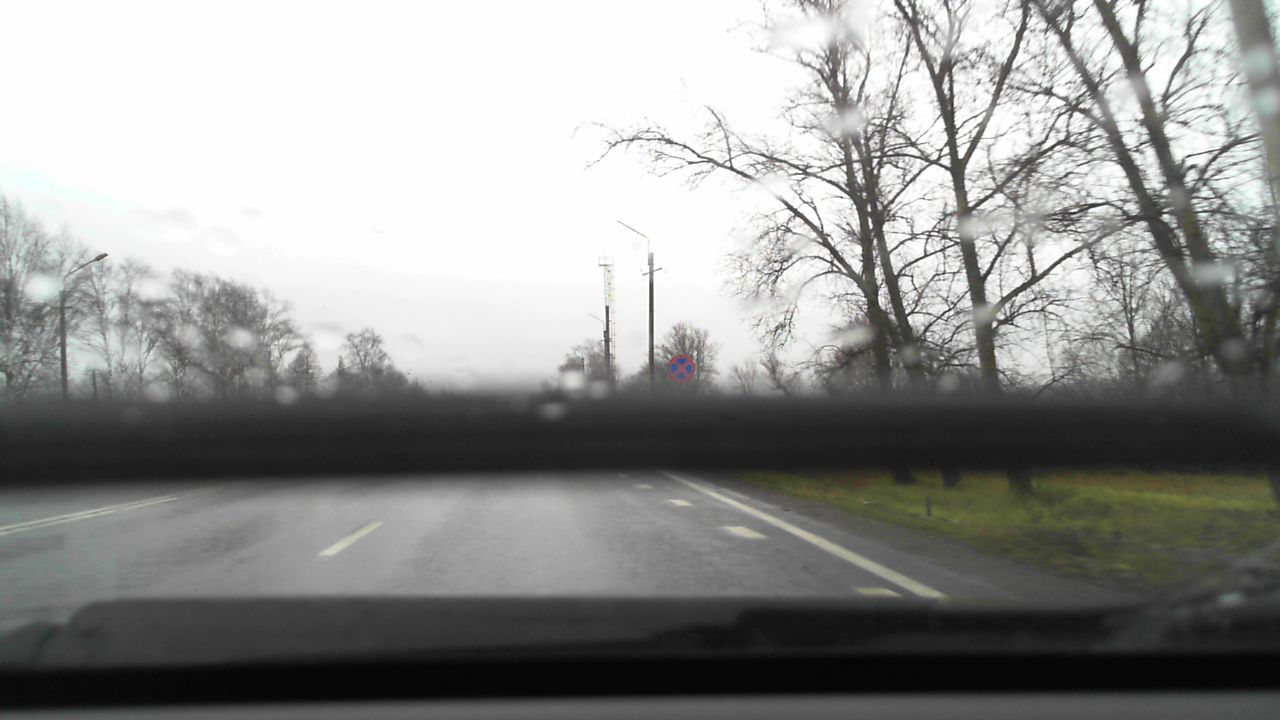No Parking: (667, 354, 695, 384)
